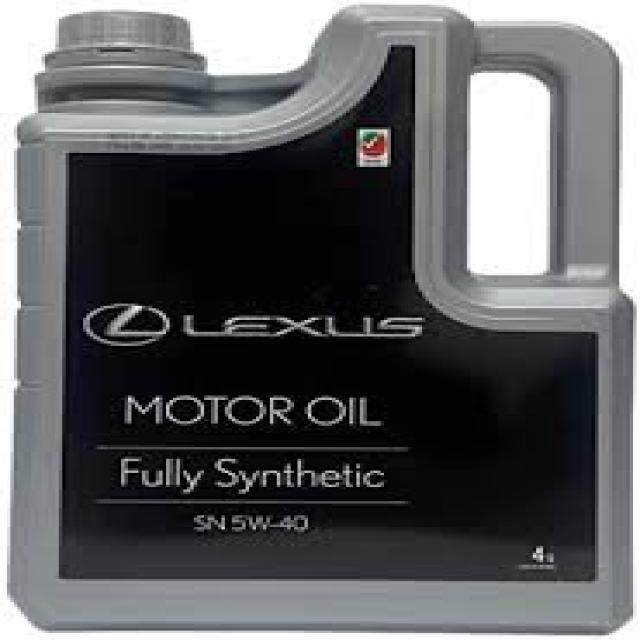motor_oil: (0, 3, 637, 640)
